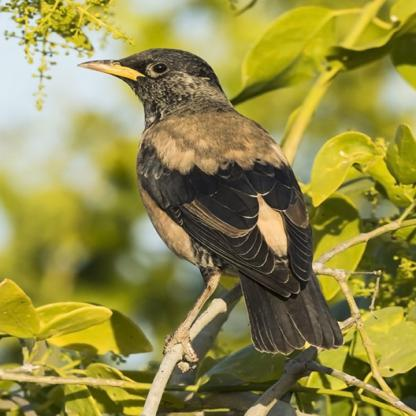Burung: (78, 48, 343, 351)
